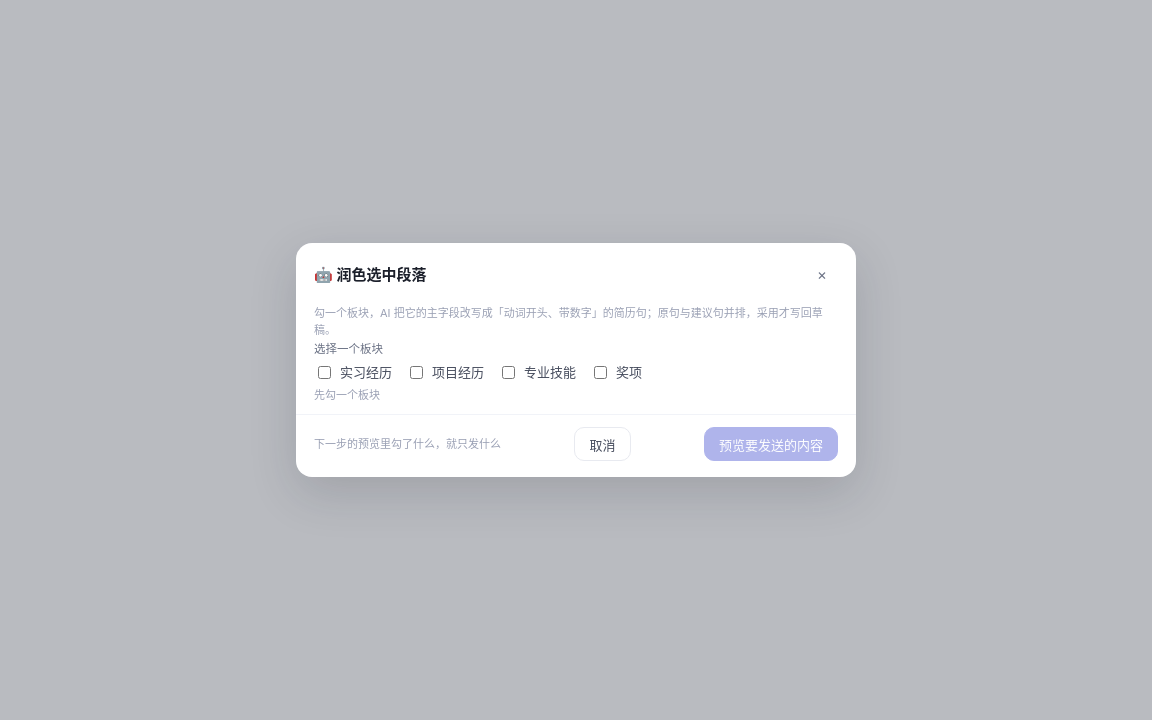
Test: AiScenarioPanel · modulePicker（T07） › 没有可润色文本的板块（primaryPath=null）：提示 + 不能预览
The width and height of the screenshot is (1152, 720).
Click the checkbox labelled "专业技能": (508, 372) [502,366,515,379]
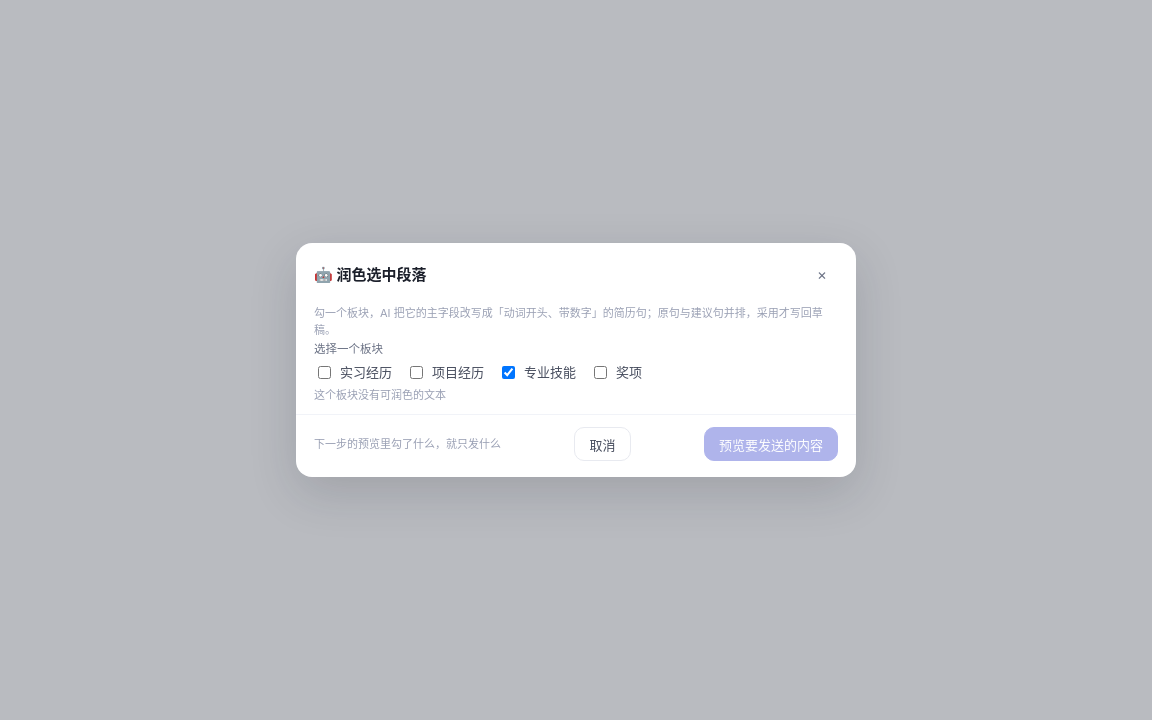
Expected: the text "没有可润色的文本" is shown, [314,388,446,402]
